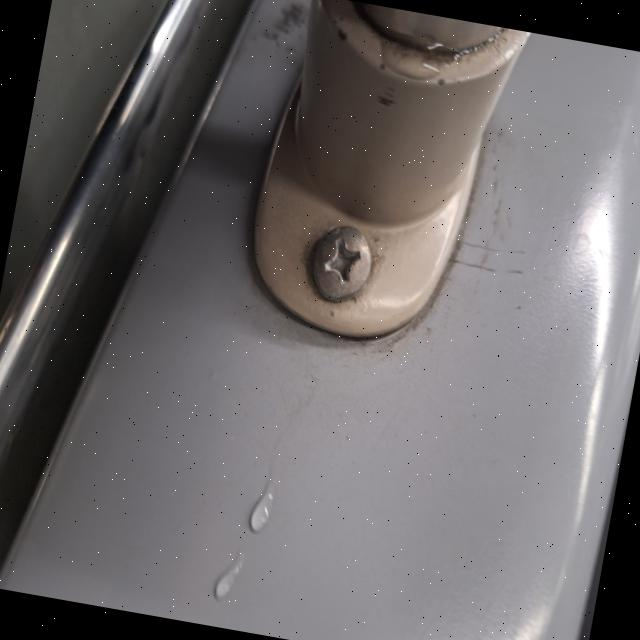Phillips: (299, 222, 377, 306)
